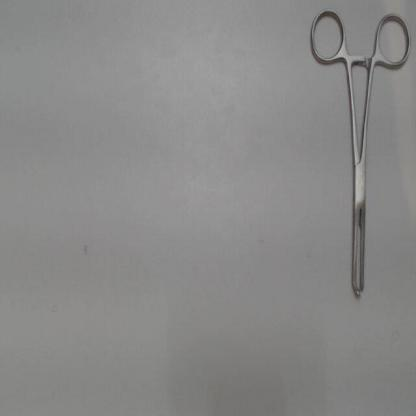Allis Tissue Forceps: (304, 1, 414, 314)
